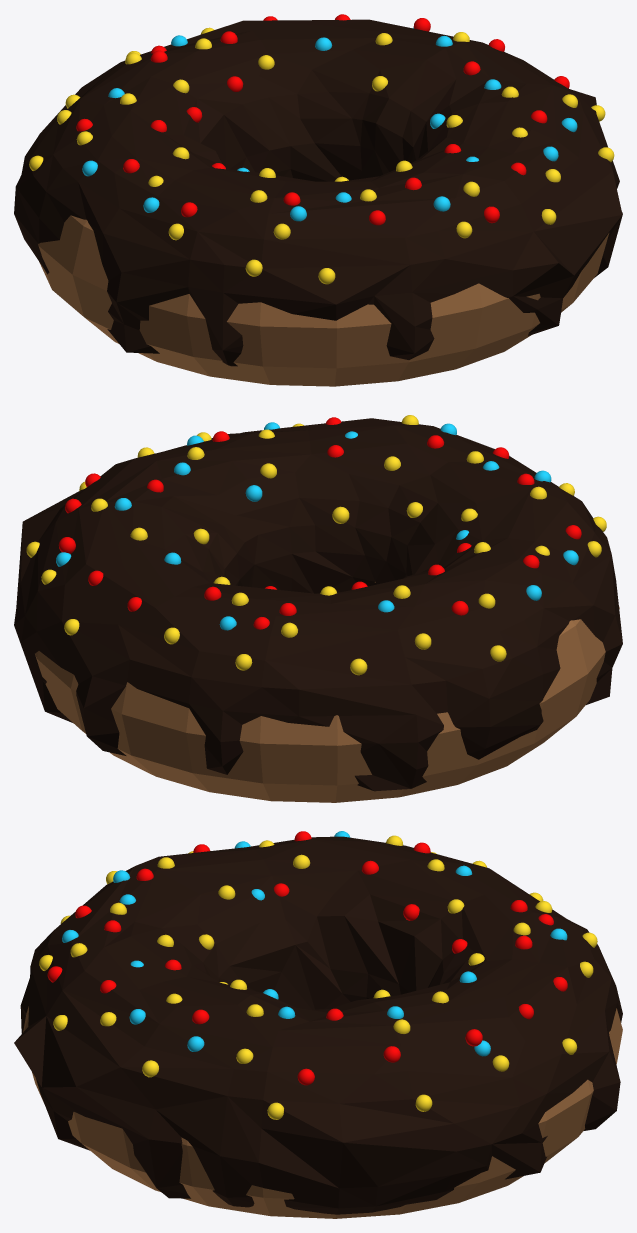
Rendered from Donut obj.obj.
The picture shows the model from 3 angles, top to bottom: view 1: azimuth 30°, elevation 25°; view 2: azimuth 150°, elevation 25°; view 3: azimuth 270°, elevation 25°; orthographic projection.
Parts seen in each view (by area): view 1: Torus002, Torus001; view 2: Torus002, Torus001; view 3: Torus002, Torus001.
Part boxes in pixels (box(x1,y1,x2,y2)): Torus002: box(14, 19, 622, 366); Torus001: box(38, 215, 609, 386); Torus002: box(14, 418, 622, 791); Torus001: box(35, 582, 619, 802); Torus002: box(14, 836, 622, 1214); Torus001: box(23, 1006, 622, 1218).
Bounding box in the file's own units: 1334 × 467 × 1279.
